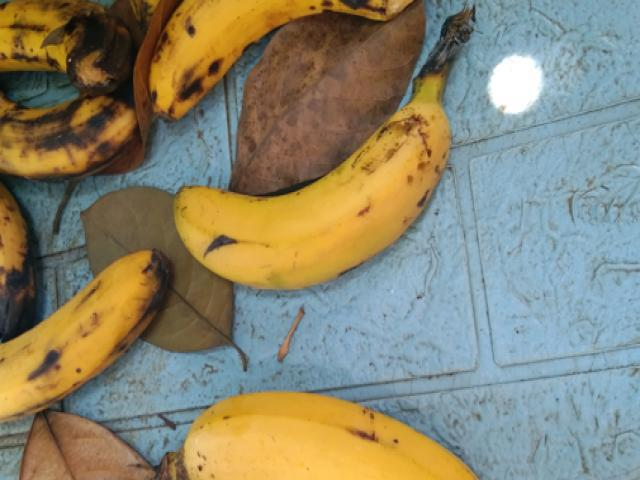freshripe: (156, 375, 511, 479)
ripe: (184, 98, 484, 305), (0, 242, 197, 454), (142, 0, 459, 124)
rotten: (0, 87, 136, 189), (0, 0, 125, 103)
